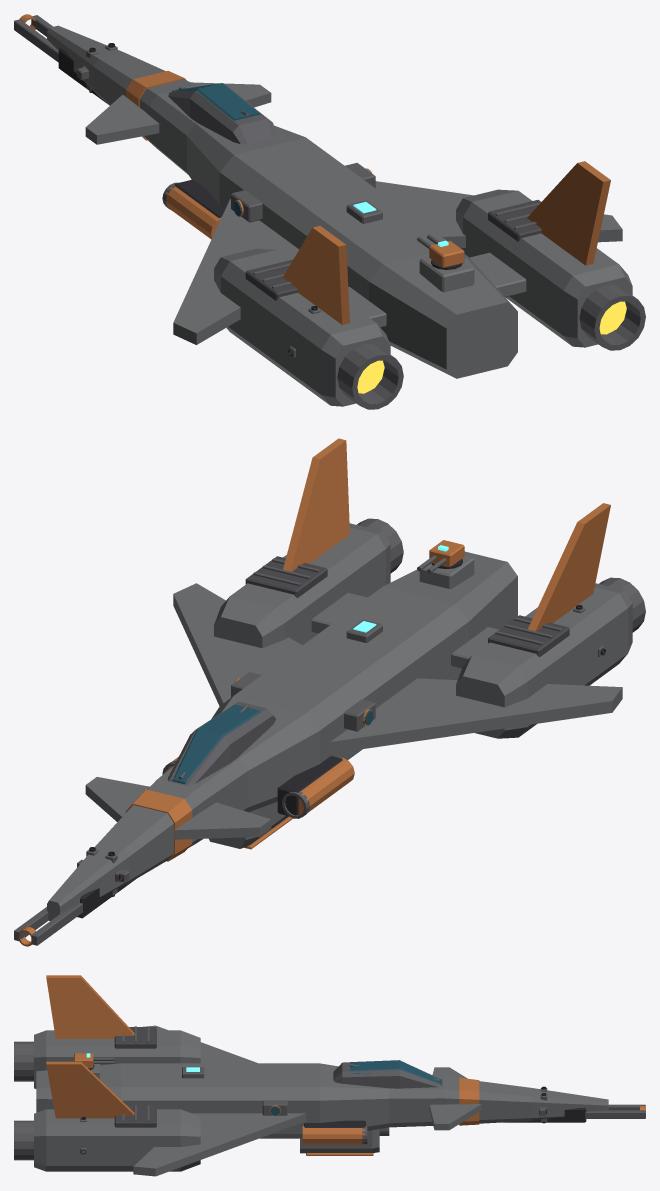
File: mars_interceptor_t4.glb
3 views of the same model, one above another, from view 1: azimuth 30°, elevation 25°; view 2: azimuth 150°, elevation 25°; view 3: azimuth 270°, elevation 25° (orthographic). The views are drawn at different scales.
Visible parts, largest first — view 1: FleetHull, mesh_pd_yaw_0; view 2: FleetHull; view 3: FleetHull.
Part boxes in pixels (box(x1,y1,x2,y2)): FleetHull: box(14, 14, 645, 409); mesh_pd_yaw_0: box(429, 241, 464, 267); FleetHull: box(14, 438, 645, 946); FleetHull: box(14, 975, 645, 1176).
Size of the model in its own units: 13.6 by 5.76 by 25.4.
